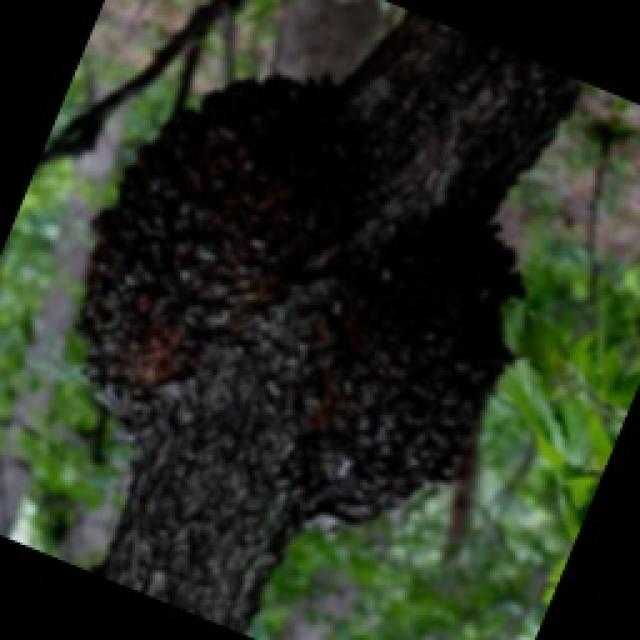Black_knot: (65, 18, 580, 630)
